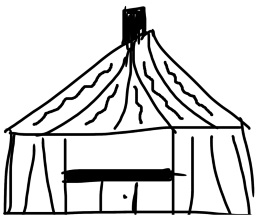big_house: (0, 1, 260, 222)
chimney: (117, 4, 157, 57)
door: (58, 157, 183, 219)
roof: (2, 27, 253, 140)
wall: (3, 123, 257, 220)
